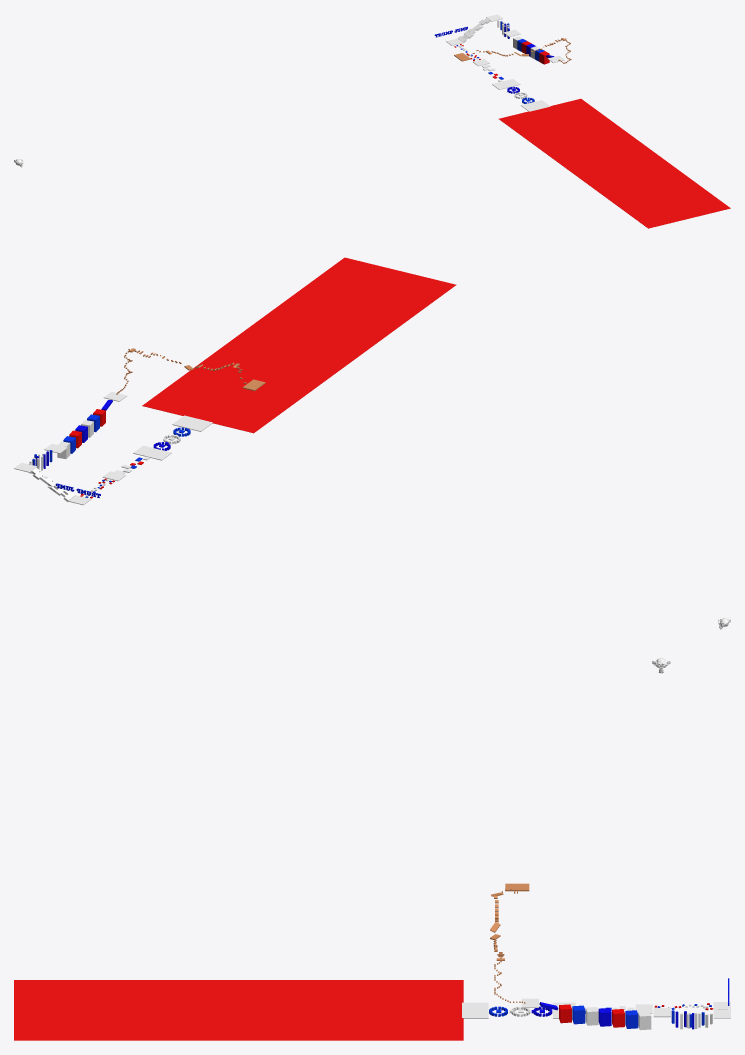
3 views of the same model, one above another, from view 1: azimuth 30°, elevation 25°; view 2: azimuth 150°, elevation 25°; view 3: azimuth 270°, elevation 25° (orthographic). The views are drawn at different scales.
Parts seen in each view (by area): view 1: Box; view 2: Box; view 3: Box.
Boxes of the visible parts, <box> form: Box: <box>498,98,730,228</box>; Box: <box>142,257,456,433</box>; Box: <box>14,980,463,1040</box>.
Bounding box in the file's own units: 3538 × 402 × 2899.
